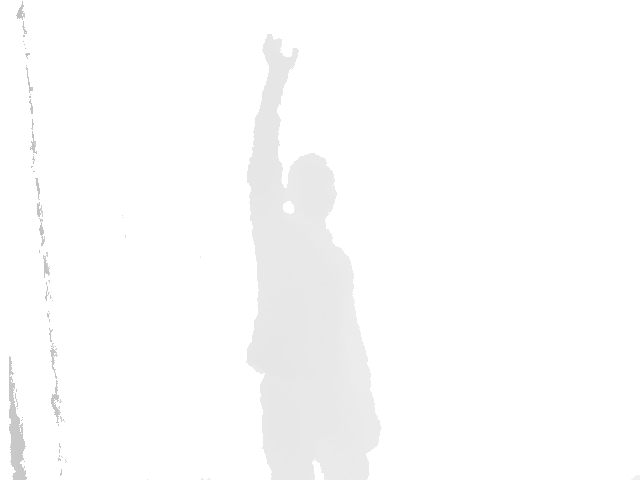hand: (262, 32, 300, 74)
head: (287, 153, 337, 223)
person: (245, 34, 382, 480)
